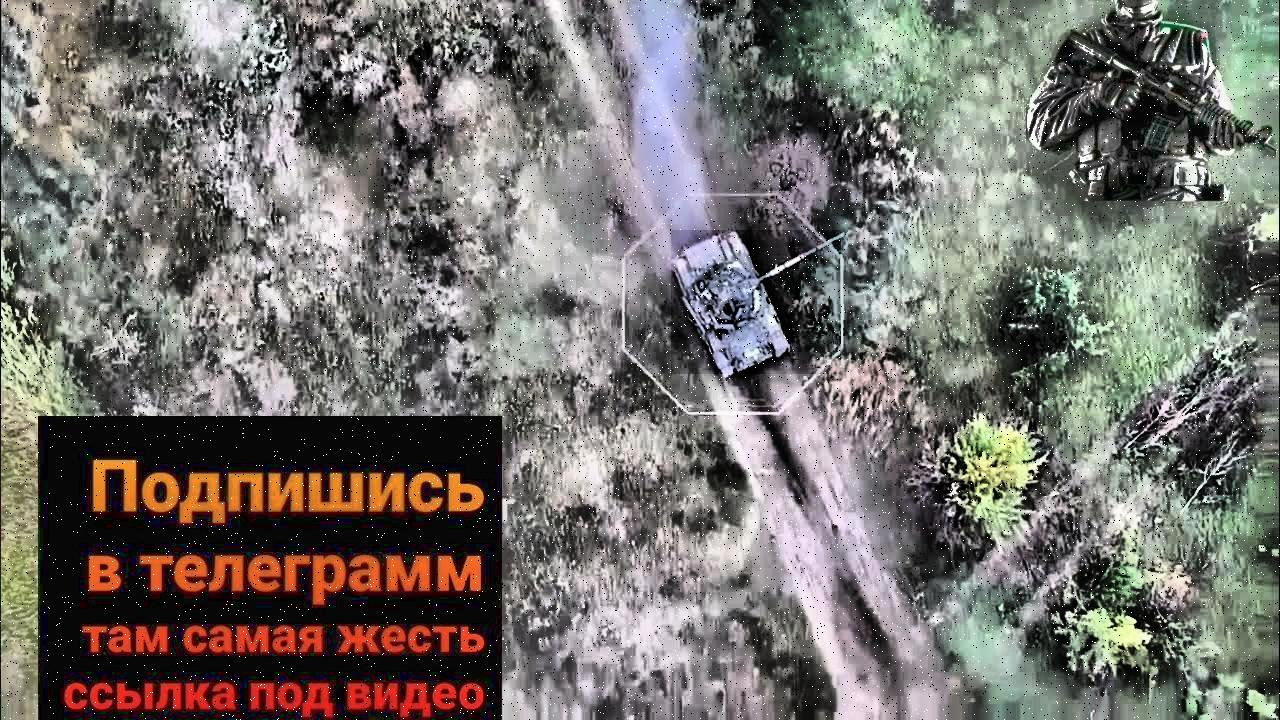military-vehicle: (671, 230, 841, 374)
